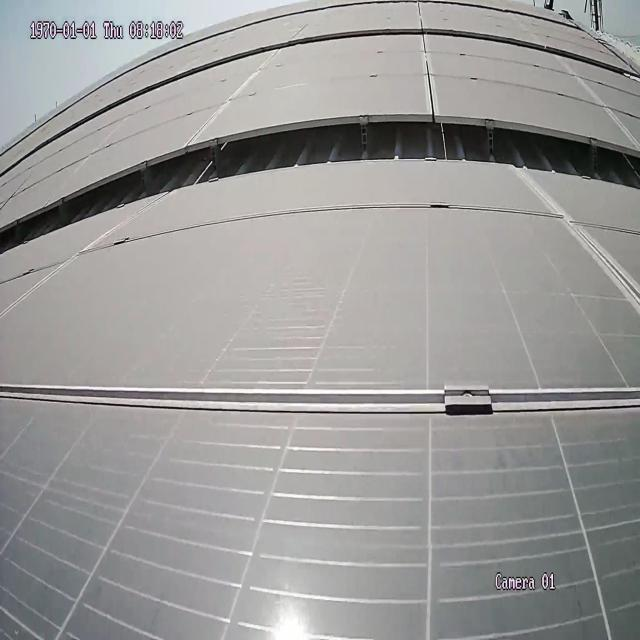interior panel: (2, 378, 640, 416), (517, 176, 640, 318), (421, 40, 442, 110)
outher panel: (0, 114, 637, 257)
